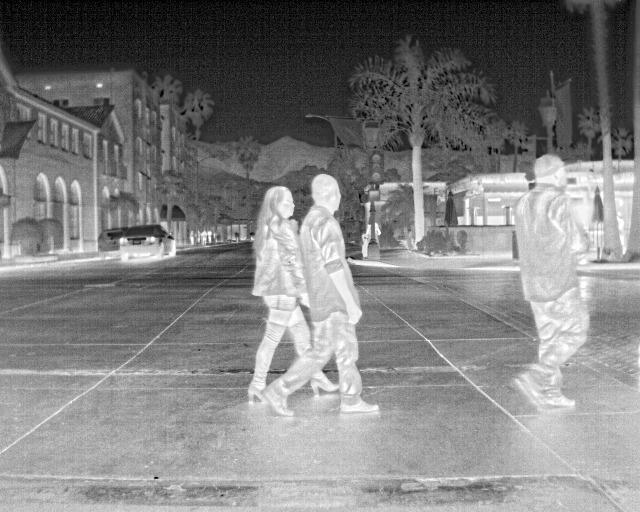bicycle: (118, 224, 178, 263), (94, 227, 131, 259)
empty: (258, 172, 381, 415), (506, 150, 583, 413), (248, 186, 312, 400), (186, 229, 196, 247), (201, 228, 208, 247), (207, 228, 214, 244)
